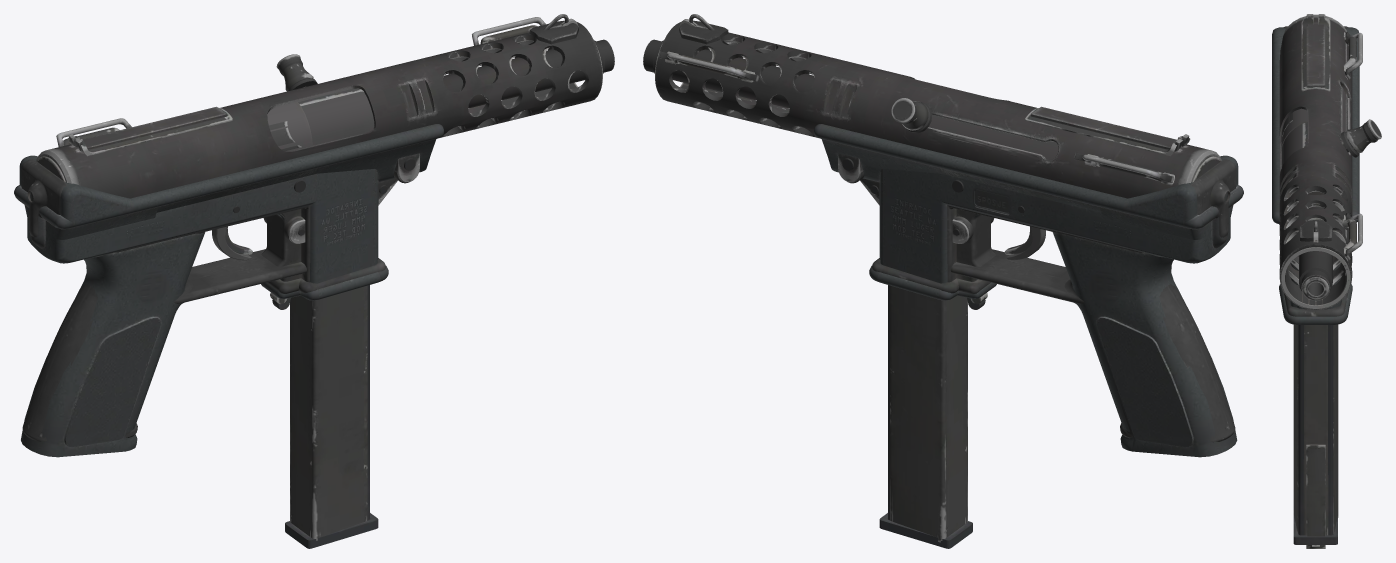
The picture shows the model from 3 angles, left to right: view 1: azimuth 30°, elevation 25°; view 2: azimuth 150°, elevation 25°; view 3: azimuth 270°, elevation 25°; orthographic projection. The views are drawn at different scales.
Parts seen in each view (by area): view 1: weapon_pist_tec9.vmdl_c.body_legacy, weapon_pist_tec9.vmdl_c.body_hd; view 2: weapon_pist_tec9.vmdl_c.body_legacy, weapon_pist_tec9.vmdl_c.body_hd; view 3: weapon_pist_tec9.vmdl_c.body_legacy, weapon_pist_tec9.vmdl_c.body_hd.
Part boxes in pixels (x1,y1,x2,y2): weapon_pist_tec9.vmdl_c.body_legacy: (14,14,614,548); weapon_pist_tec9.vmdl_c.body_hd: (17,18,602,540); weapon_pist_tec9.vmdl_c.body_legacy: (643,14,1243,548); weapon_pist_tec9.vmdl_c.body_hd: (655,19,1240,542); weapon_pist_tec9.vmdl_c.body_legacy: (1272,14,1377,544); weapon_pist_tec9.vmdl_c.body_hd: (1281,17,1381,548).
Size of the model in its own units: 13.37 by 10.18 by 2.45.
Materials: 2 (2 with a texture image).
